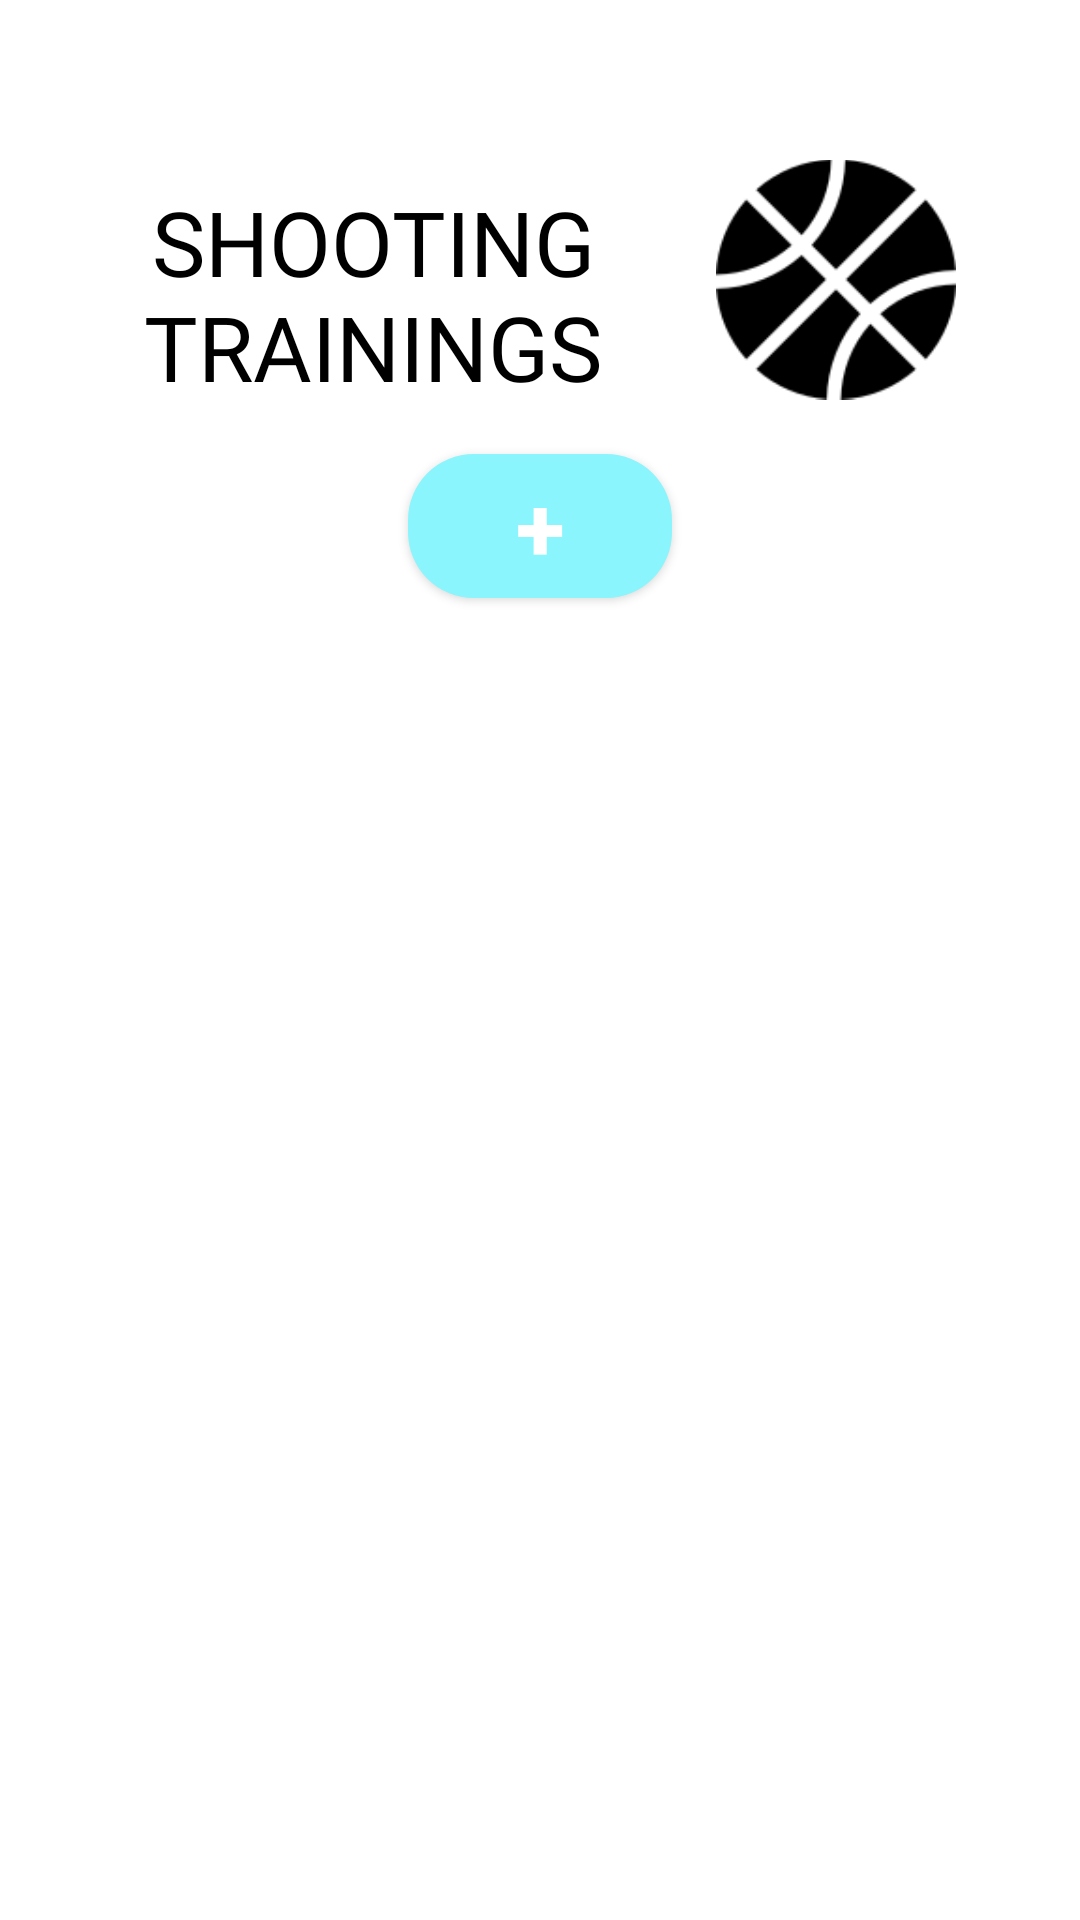

Icons on this 1080px x 1920px Android screen, each with the point to tap as (x=x, y=y):
basketball ball: (x=836, y=280)
